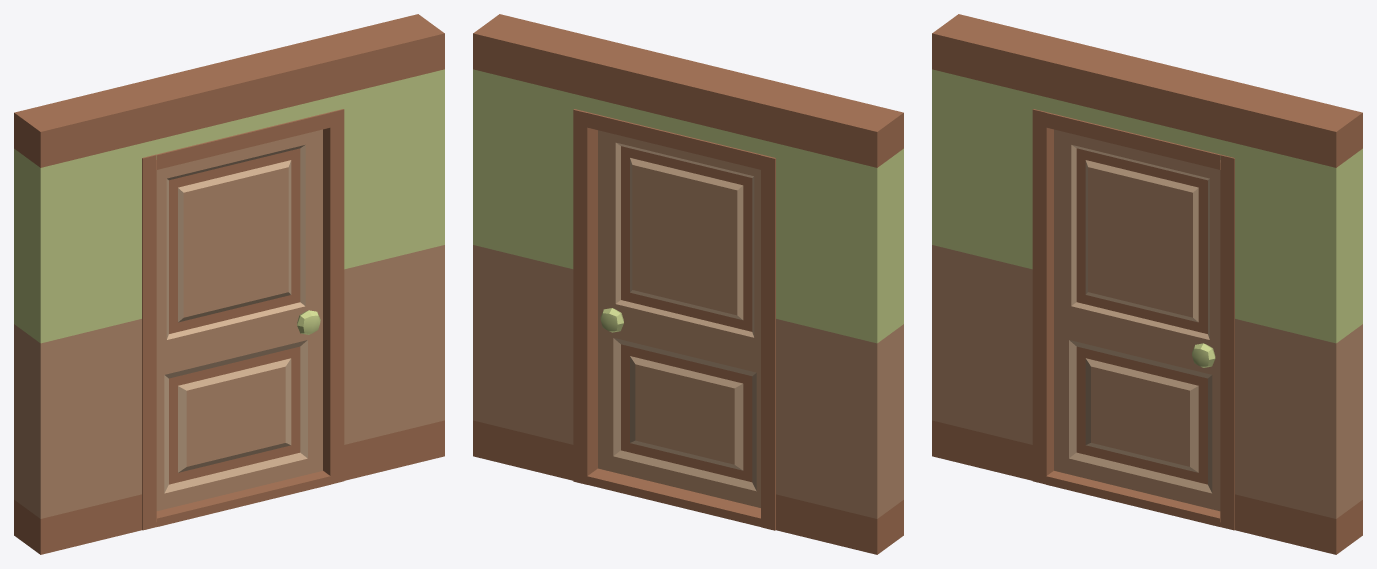
The model's file is Wall_hallway_door.fbx.
3 renders of one model, left to right at view 1: azimuth 30°, elevation 25°; view 2: azimuth 150°, elevation 25°; view 3: azimuth 330°, elevation 25°, orthographic.
Visible parts, largest first — view 1: Wall_hallway_door, Door_hallway; view 2: Wall_hallway_door, Door_hallway; view 3: Wall_hallway_door, Door_hallway.
Part boxes in pixels (x1,y1,x2,y2): Wall_hallway_door: (14,14,444,554); Door_hallway: (156,129,322,510); Wall_hallway_door: (473,14,903,554); Door_hallway: (598,130,760,507); Wall_hallway_door: (932,14,1362,554); Door_hallway: (1054,129,1220,511).
Size of the model in its own units: 200 by 200 by 26.
